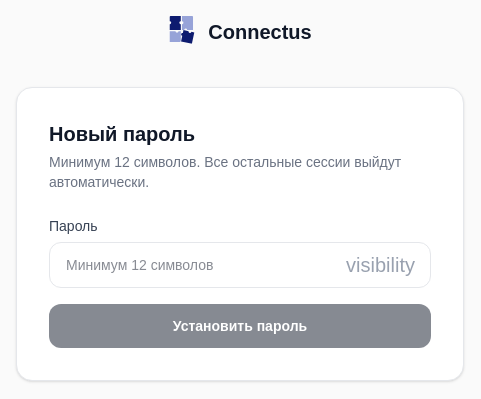
ResetPasswordPage › disables submit until the password reaches 12 characters
The width and height of the screenshot is (481, 399).
Check: the button "Установить пароль" is disabled, box [49,304,431,348]
Type "short" into the password field with placeholder "Минимум 12 символов".
click(240, 264); type("short")  # box [49,242,431,288]
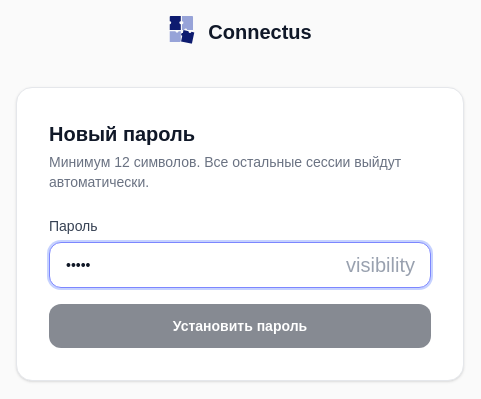
Check: the button "Установить пароль" is disabled, box [49,304,431,348]
Type "1234567890123" into the password field with placeholder "Минимум 12 символов".
click(240, 264); type("1234567890123")  # box [49,242,431,288]
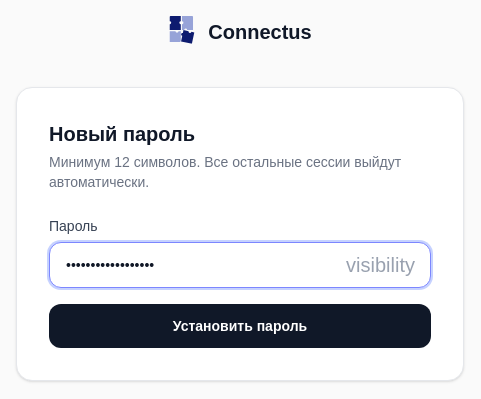
Check: the button "Установить пароль" is enabled, box [49,304,431,348]
